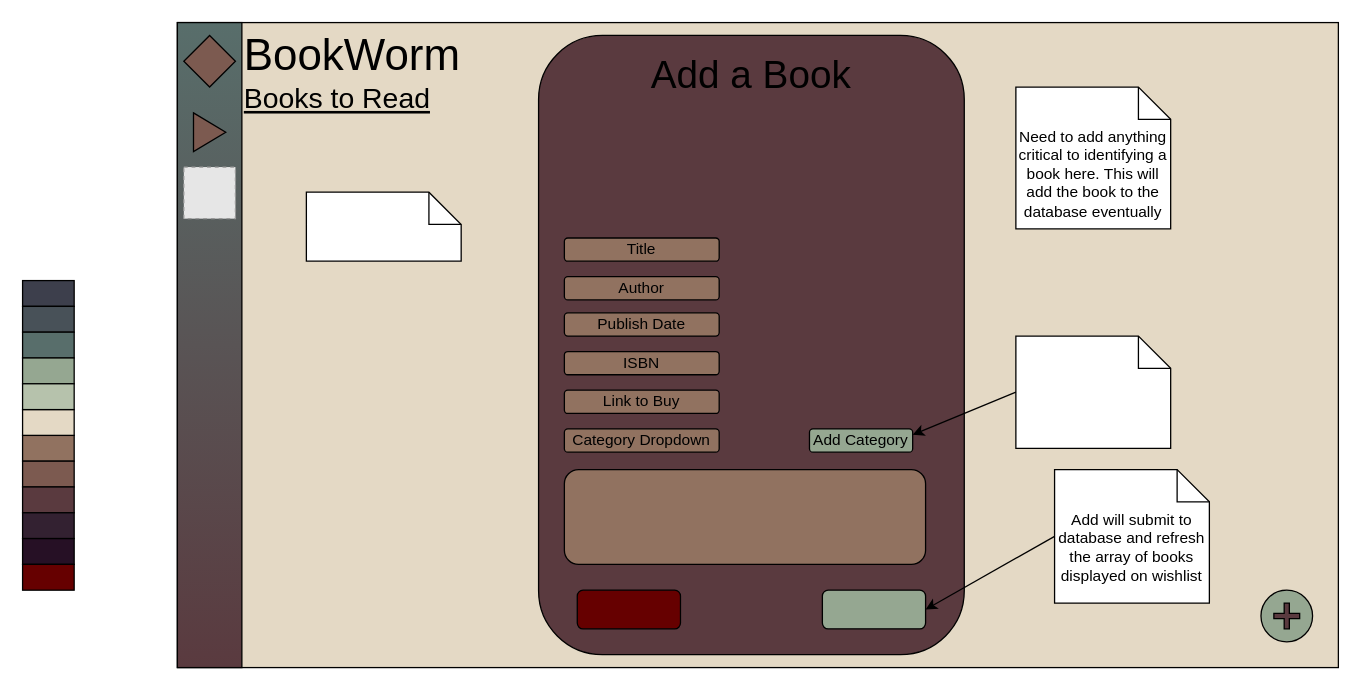
Image size: 1361x690. Some labels were removed from this diagram. Grey dashed boxes stand in for pictures. Here are the shapes that lost their labels. From the top down, the centre of each, then its label:
the point at 383,226: Blur Background here
the point at 1093,391: Add Category to add multiple categories to a new book
the point at 744,516: Description
the point at 628,609: Cancel
the point at 873,609: Add
